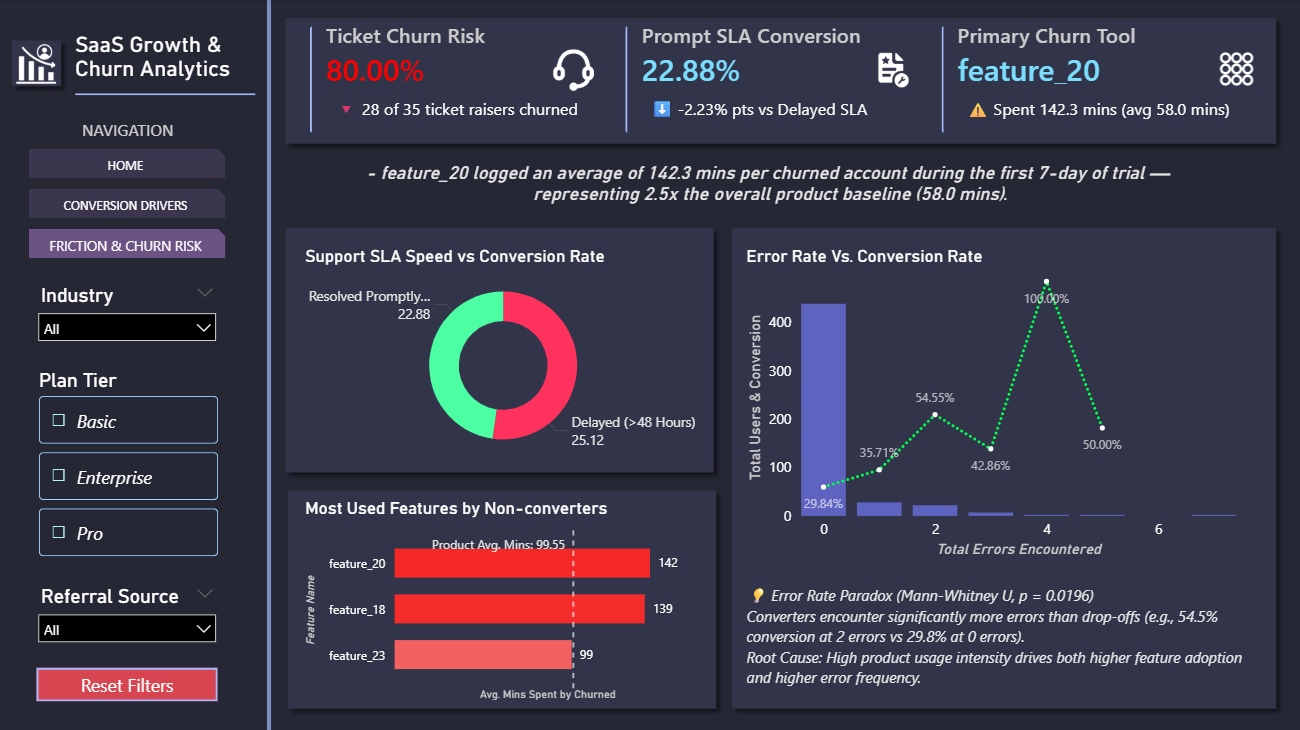

What the dashboard file says about the page in this screenshot:
{"tool":"powerbi","page":{"name":"FRICTION & CHURN RISK","canvas":[1280,720],"ordinal":2},"visuals":[{"type":"shape","box":[272.4,9.8,990.2,141.1],"z":0},{"type":"shape","box":[3.7,32.1,66.3,62.6],"z":0,"group":"g1"},{"type":"cardVisual","fields":{"Data":["Measures (2).ticket_submission_churn_rate","Measures (2).prompt_sla_conversion_rate_%","Measures (2).primary_churn_tool"]},"box":[285.9,7.4,962,143.6],"z":1000},{"type":"image","box":[8.6,43.1,56.4,41.7],"z":1000,"group":"g1"},{"type":"shape","box":[274.8,473.6,438,231.9],"z":2000},{"type":"clusteredBarChart","title":"Most Used Features by Non-converters","fields":{"Y":["Measures (2).avg_mins_spent_churned"],"Category":["saas_conversion feature_usage.feature_name"]},"box":[295.7,489.6,398.8,203.7],"z":3000},{"type":"shape","box":[710.4,216,552.2,489.6],"z":4000},{"type":"lineClusteredColumnComboChart","title":"Error Rate Vs. Conversion Rate","fields":{"Y2":["Measures (2).conversion_rate_%_no_filter"],"Y":["Measures (2).total_accounts_count"],"Category":["saas_conversion master_analytics.total_errors_encountered"]},"box":[728.8,241.7,533.7,311.7],"z":5000},{"type":"advancedSlicerVisual","title":"Plan Tier","fields":{"Values":["saas_conversion master_analytics.plan_tier"]},"box":[34.4,363.2,186.5,190.2],"z":6000},{"type":"slicer","title":"Industry","fields":{"Values":["saas_conversion master_analytics.industry"]},"box":[28.2,274.8,195.1,69.9],"z":7000},{"type":"slicer","title":"Industry","fields":{"Values":["saas_conversion master_analytics.referral_source"]},"box":[28.2,570.6,195.1,66.3],"z":8000},{"type":"actionButton","title":"SaaS Growth & Churn Analytics","box":[74.8,31.9,176.7,62.6],"z":9000},{"type":"actionButton","box":[52.8,108,147.2,40.5],"z":10000},{"type":"actionButton","box":[36.8,656.4,177.9,33.1],"z":11000},{"type":"pageNavigator","box":[29.4,147.2,193.9,108],"z":12000},{"type":"shape","box":[257.7,0,14.7,720],"z":13000},{"type":"group","id":"g1","title":"Group 1","box":[3.7,32.1,66.3,62.6],"z":14000},{"type":"textbox","box":[728.8,570.6,512.9,119],"z":15000},{"type":"shape","box":[272.4,216,438,257.7],"z":16000},{"type":"donutChart","title":"Support SLA Speed vs Conversion Rate","fields":{"Y":["Measures (2).support_sla_conversion_rate_pct"],"Category":["saas_conversion support_tickets.resolution_speed"]},"box":[295.7,241.7,398.8,217.2],"z":17000},{"type":"card","fields":{"Values":["Measures (2).dynamic_insight_feature_trap_risk"]},"box":[295.7,146,922.7,69.9],"z":18000},{"type":"image","box":[526.4,45.4,76.1,49.1],"z":19000},{"type":"image","box":[839.3,45.4,77.3,49.1],"z":20000},{"type":"image","box":[1181.6,49.1,66.3,39.3],"z":21000}]}

Visuals, with their boxes in screenshot pixels (x1, y1, x2, y2), scaled from the page's 1280x720 canvas onto the 1300x730 screenshot:
shape: x1=277 y1=10 x2=1282 y2=153
shape: x1=4 y1=33 x2=71 y2=96
cardVisual - Measures (2).ticket_submission_churn_rate x Measures (2).prompt_sla_conversion_rate_%: x1=290 y1=8 x2=1267 y2=153
image: x1=9 y1=44 x2=66 y2=86
shape: x1=279 y1=480 x2=724 y2=715
"Most Used Features by Non-converters" clusteredBarChart: x1=300 y1=496 x2=705 y2=703
shape: x1=722 y1=219 x2=1282 y2=715
"Error Rate Vs. Conversion Rate" lineClusteredColumnComboChart: x1=740 y1=245 x2=1282 y2=561
"Plan Tier" advancedSlicerVisual: x1=35 y1=368 x2=224 y2=561
"Industry" slicer: x1=29 y1=279 x2=227 y2=349
"Industry" slicer: x1=29 y1=579 x2=227 y2=646
"SaaS Growth & Churn Analytics" actionButton: x1=76 y1=32 x2=255 y2=96
actionButton: x1=54 y1=110 x2=203 y2=151
actionButton: x1=37 y1=666 x2=218 y2=699
pageNavigator: x1=30 y1=149 x2=227 y2=259
shape: x1=262 y1=0 x2=277 y2=729
"Group 1" group: x1=4 y1=33 x2=71 y2=96
textbox: x1=740 y1=579 x2=1261 y2=699
shape: x1=277 y1=219 x2=722 y2=480
"Support SLA Speed vs Conversion Rate" donutChart: x1=300 y1=245 x2=705 y2=465
card - Measures (2).dynamic_insight_feature_trap_risk: x1=300 y1=148 x2=1237 y2=219
image: x1=535 y1=46 x2=612 y2=96
image: x1=852 y1=46 x2=931 y2=96
image: x1=1200 y1=50 x2=1267 y2=90
